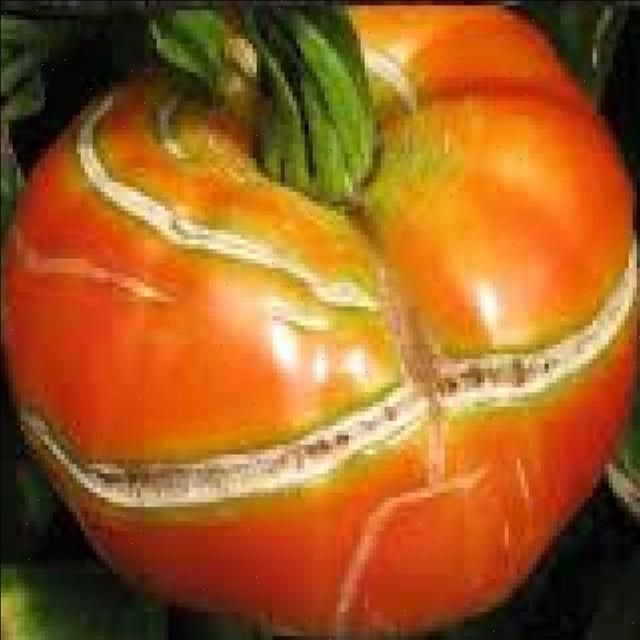Cracking Fruit: (149, 47, 426, 252)
